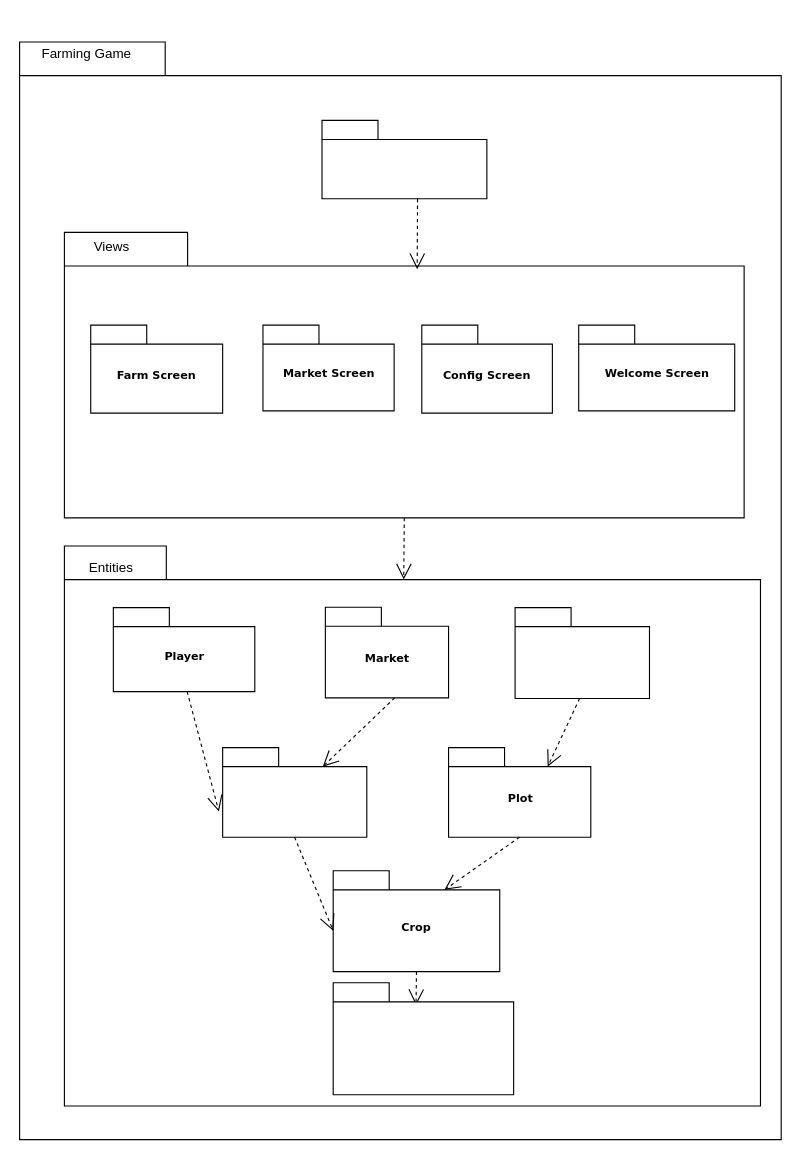
This 801x1159 diagram has some shape labels left out. Each missing label, with the centre of its shape:
"Controller" belongs at (x=404, y=159).
"Crop Stage" belongs at (x=423, y=1038).
"Farm" belongs at (x=581, y=652).
"Inventory" belongs at (x=294, y=791).
